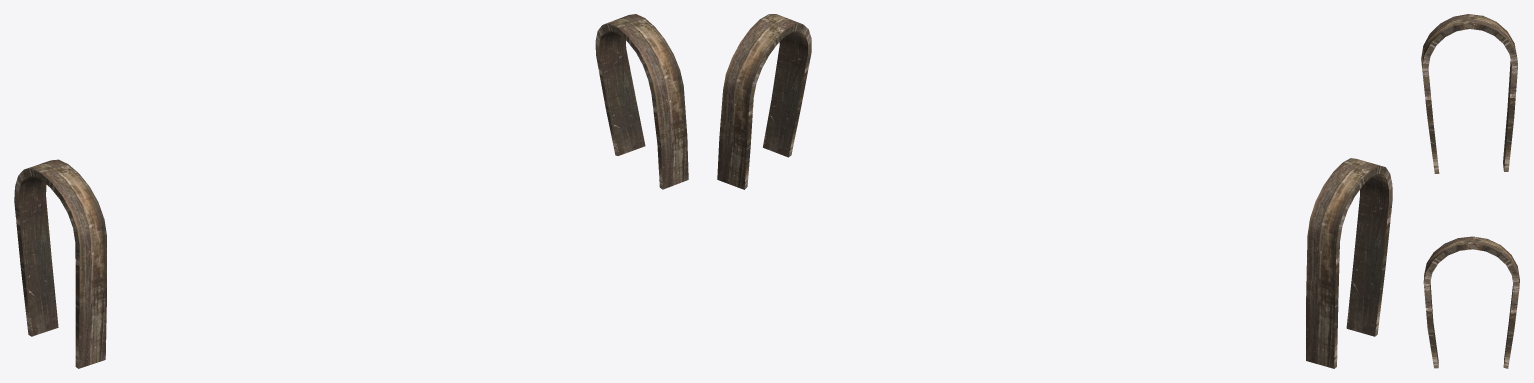
3 renders of one model, left to right at view 1: azimuth 30°, elevation 25°; view 2: azimuth 150°, elevation 25°; view 3: azimuth 270°, elevation 25°, orthographic. The views are drawn at different scales.
Parts seen in each view (by area): view 1: SM_Village_Boat_v2_LOD0; view 2: SM_Village_Boat_v2_LOD0; view 3: SM_Village_Boat_v2_LOD0.
Boxes of the visible parts, x1,y1,x2,y2 form: SM_Village_Boat_v2_LOD0: (14,14,688,368); SM_Village_Boat_v2_LOD0: (717,14,1392,368); SM_Village_Boat_v2_LOD0: (1421,14,1519,368).
Size of the model in its own units: 1.72 by 0.4949 by 0.2977.
